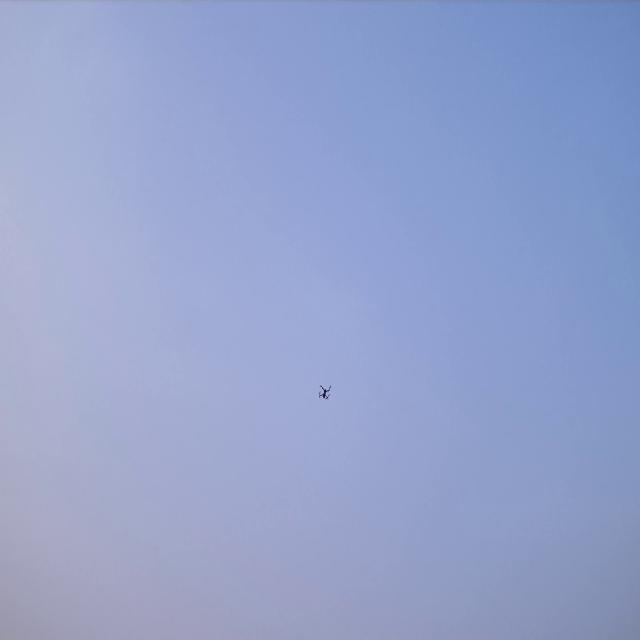UAV: (318, 382, 332, 401)
